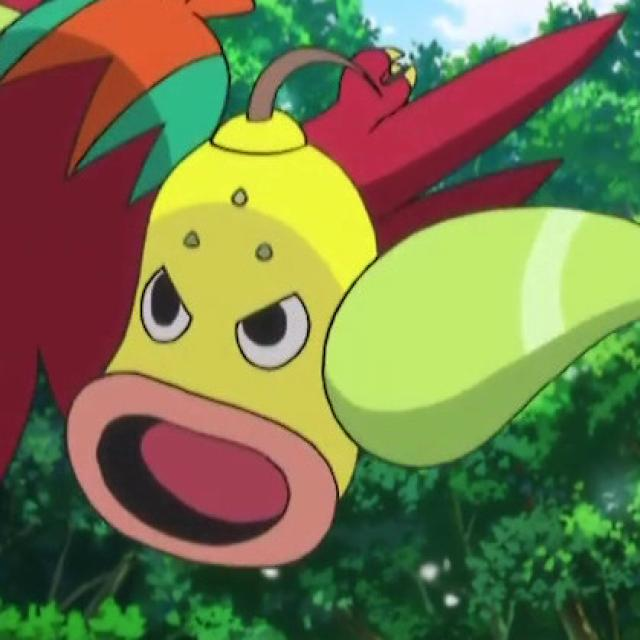Weepinbell: (66, 71, 394, 566)
